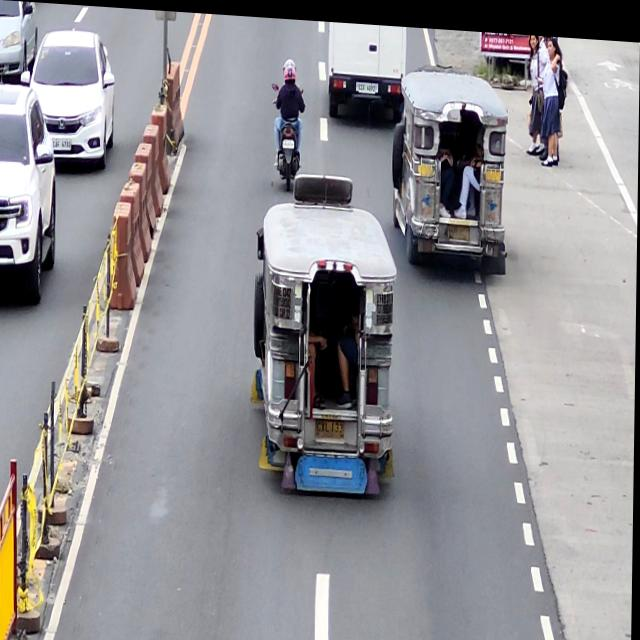Car: (327, 17, 407, 119)
Jeep: (252, 194, 399, 495), (390, 62, 509, 272)
License-Plate: (316, 414, 346, 437), (357, 78, 377, 89), (281, 135, 296, 147)
Motorcycle: (272, 74, 305, 186)
